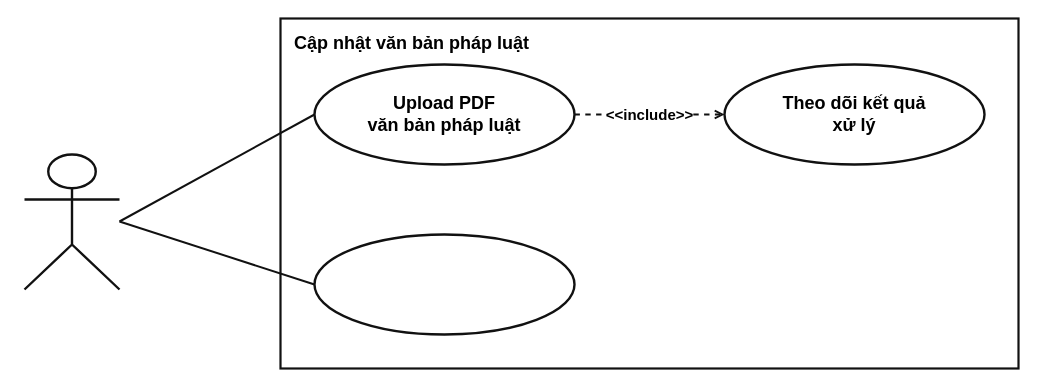
Some shapes in this 1037 by 387 pixel diagram are drawn without their labels. Each missing label, with the box of its shape:
Hủy yêu cầu cập nhật: (313, 233, 575, 335)
Quản trị viên: (23, 153, 120, 290)
